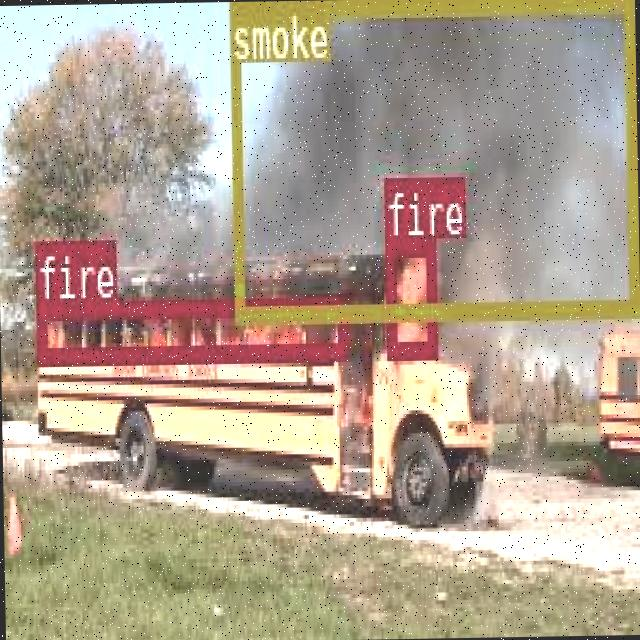fire: (35, 294, 346, 362), (384, 235, 435, 353)
smoke: (229, 0, 635, 317)
